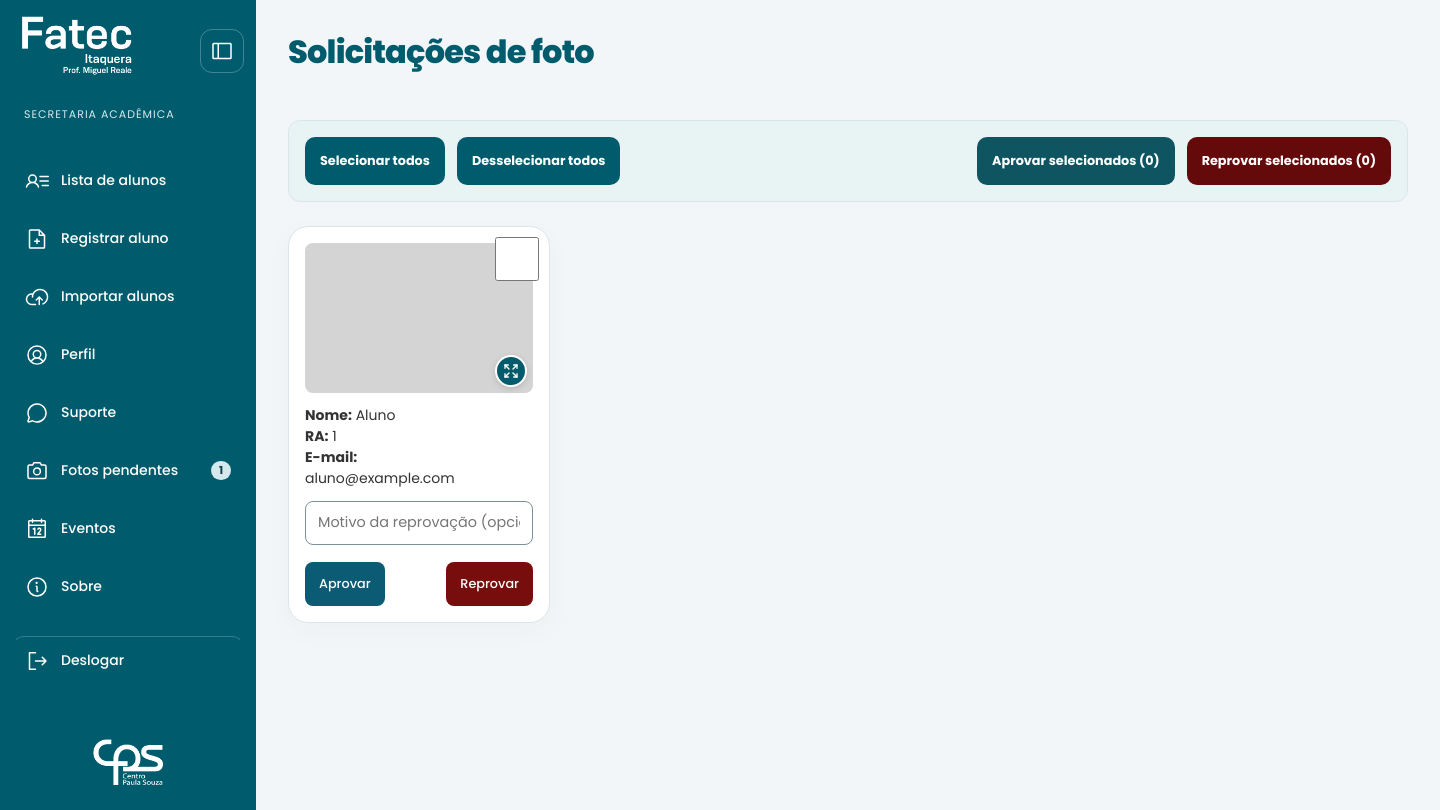
it: Badge após decisões sobre fotos › atualiza após Aprovar selecionados (1)
Expected: the button with aria-label "Fotos pendentes: 1 aguardando análise" is shown, [12,446,244,496]
Click the button "Selecionar todos". click: click(375, 161)
box: [305,137,445,185]
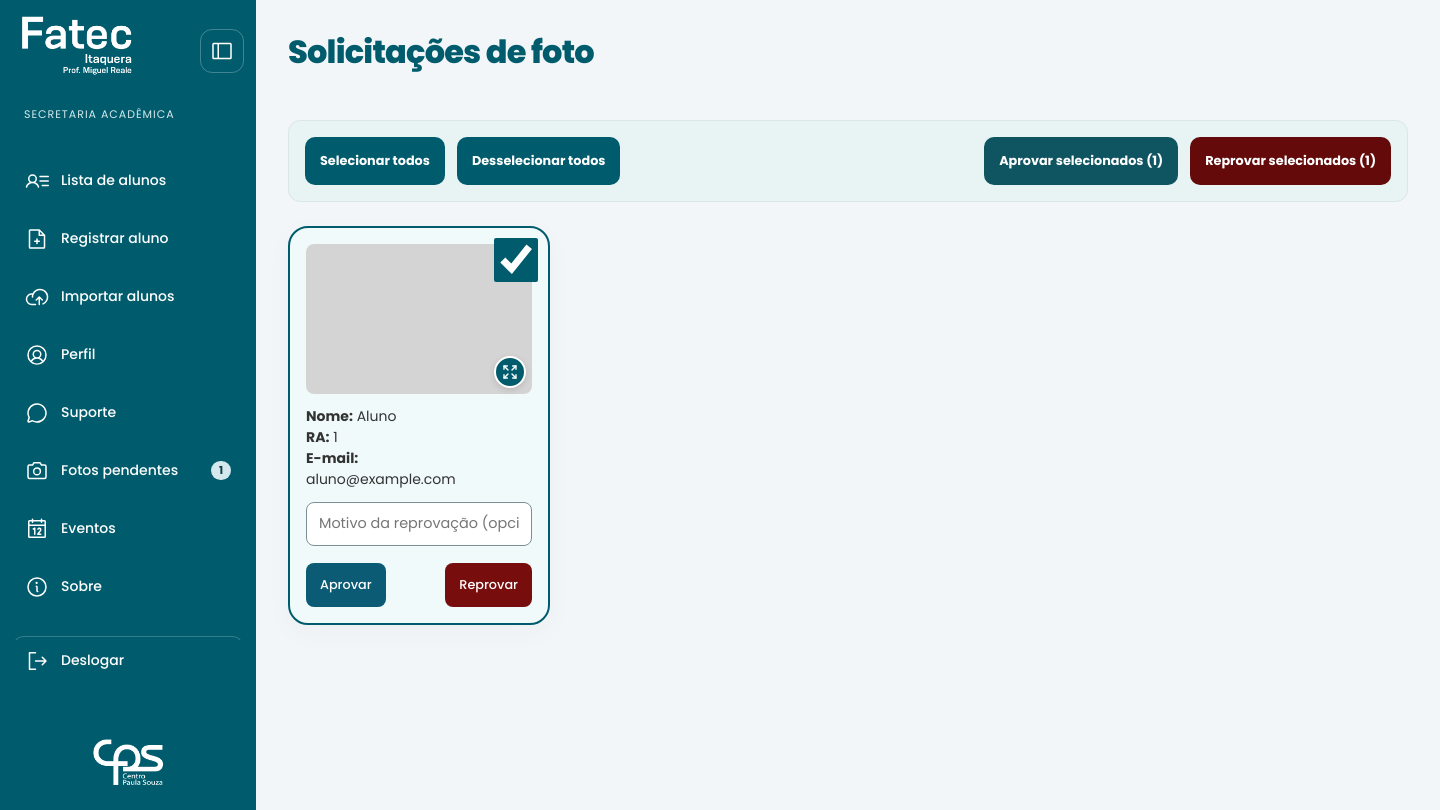
Click the button "Aprovar selecionados (1)". click: click(1081, 161)
box: [984,137,1178,185]
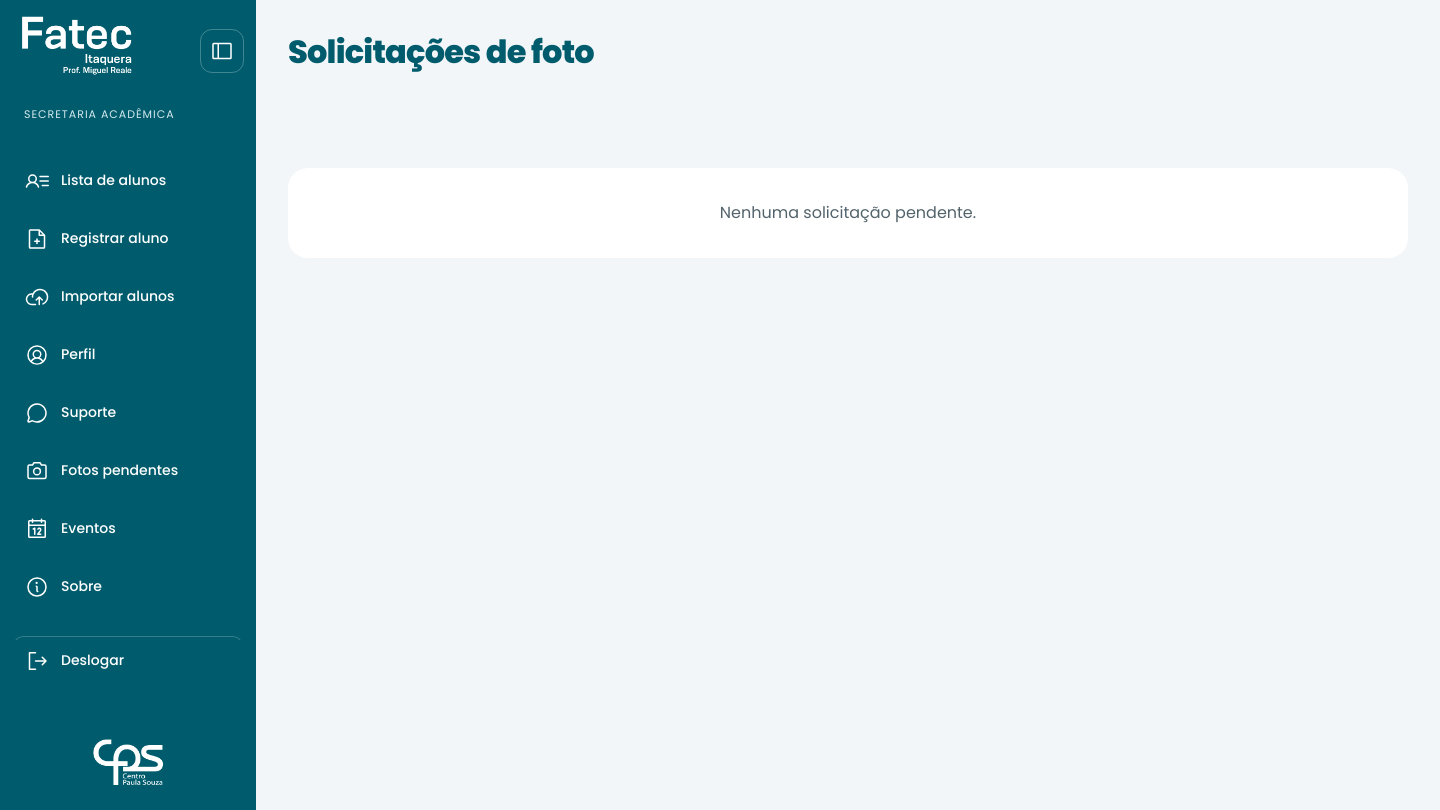
Result: the text "Nenhuma solicitação pendente." is shown at [288,168,1408,258]
Result: the button "Fotos pendentes" no longer shows "1" at [12,446,244,496]
